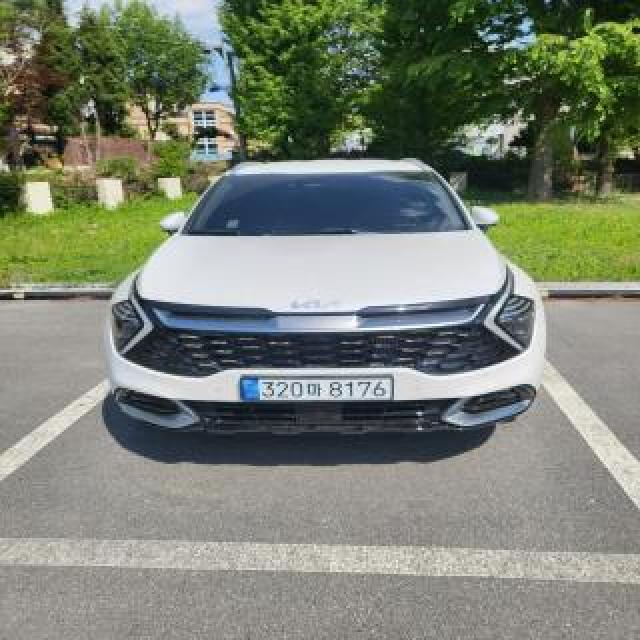car: (97, 146, 560, 472)
illegal_plate: (237, 370, 402, 410)
